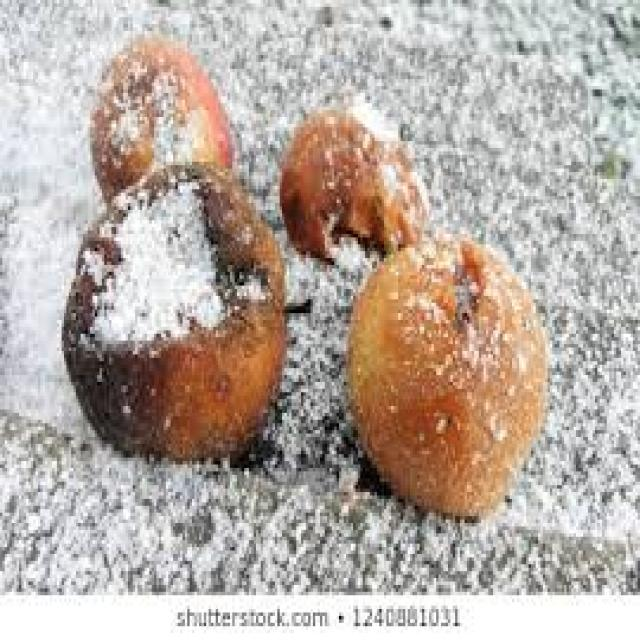organic waste: (59, 158, 311, 461), (346, 227, 545, 520), (85, 34, 235, 203), (280, 96, 424, 262)
